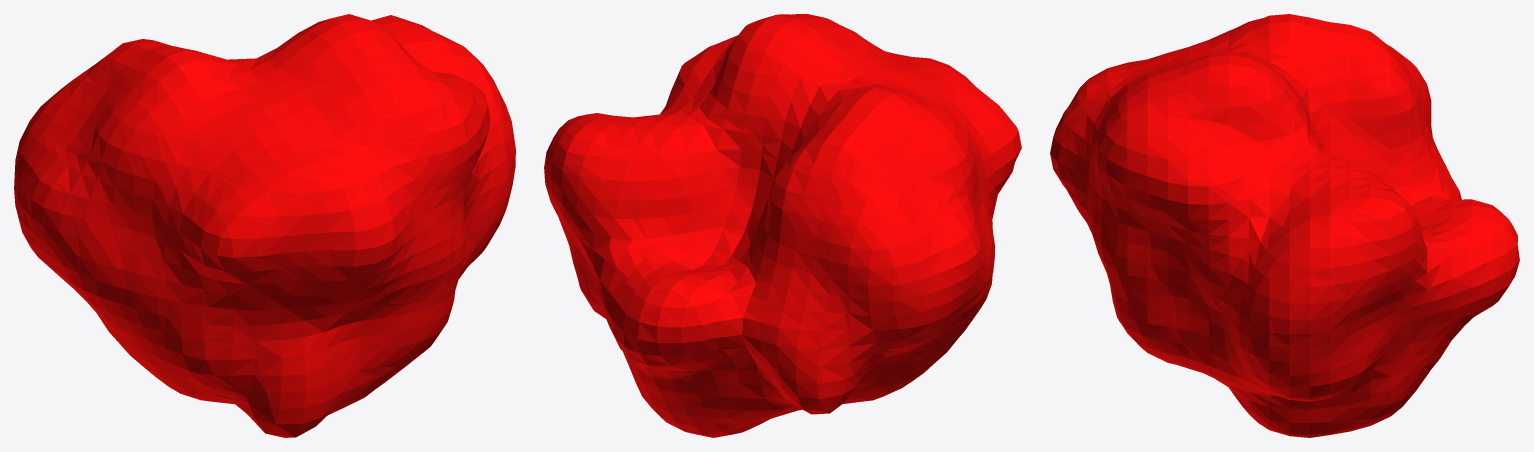
Rendered from mobA_coarse.dae.
The picture shows the model from 3 angles, left to right: view 1: azimuth 30°, elevation 25°; view 2: azimuth 150°, elevation 25°; view 3: azimuth 270°, elevation 25°; orthographic projection. The views are drawn at different scales.
Visible parts, largest first — view 1: mobA; view 2: mobA; view 3: mobA.
Boxes of the visible parts, box(x1,y1,x2,y2) form: mobA: box(14, 14, 515, 437); mobA: box(544, 14, 1021, 437); mobA: box(1050, 14, 1519, 437).
Size of the model in its own units: 49.43 by 40.97 by 47.9.
